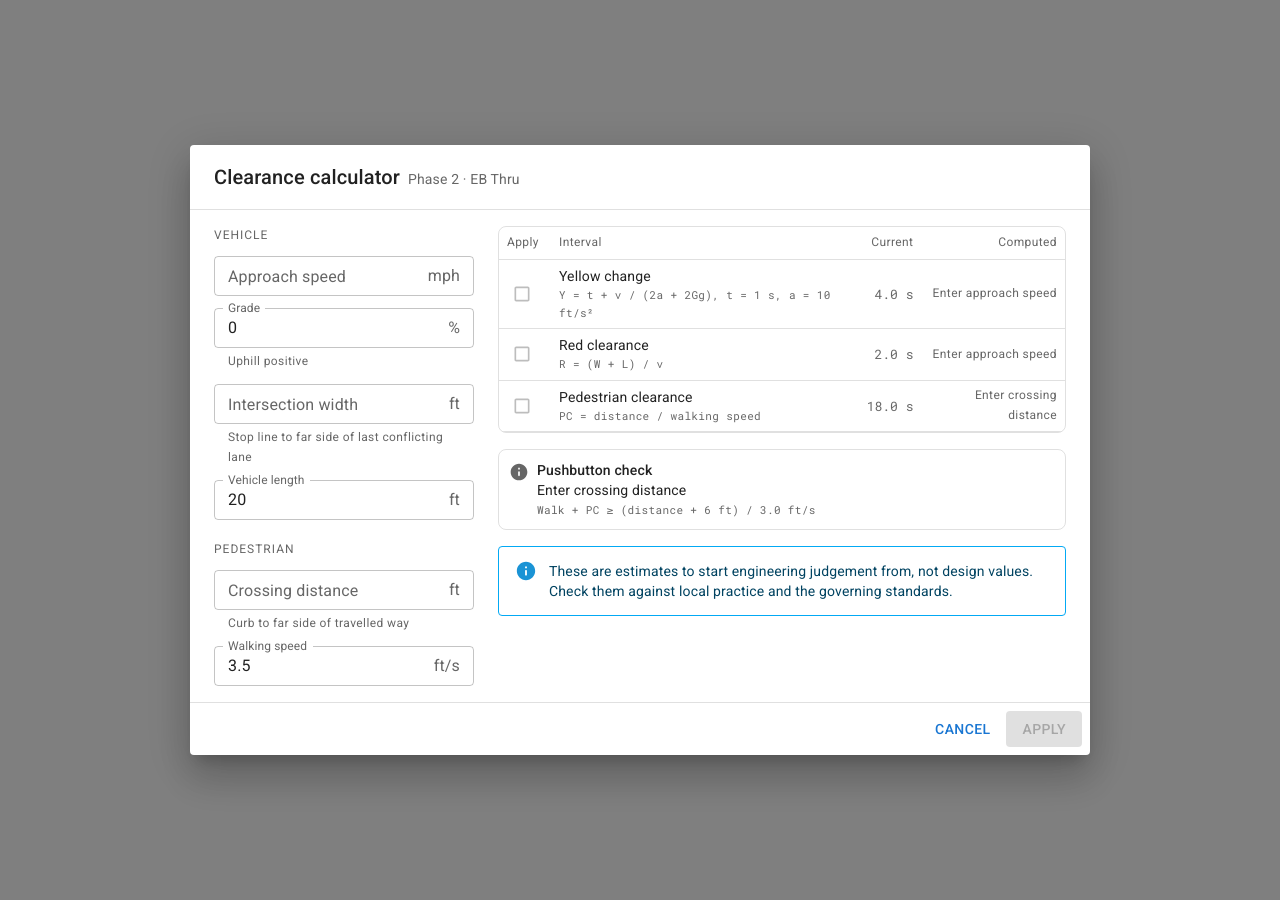
it: ClearanceDialog › recomputes live as inputs change, with defaults for vehicle length and walking speed
In the field labelled "Approach speed": (317, 276) [214,256,420,296], type "35"
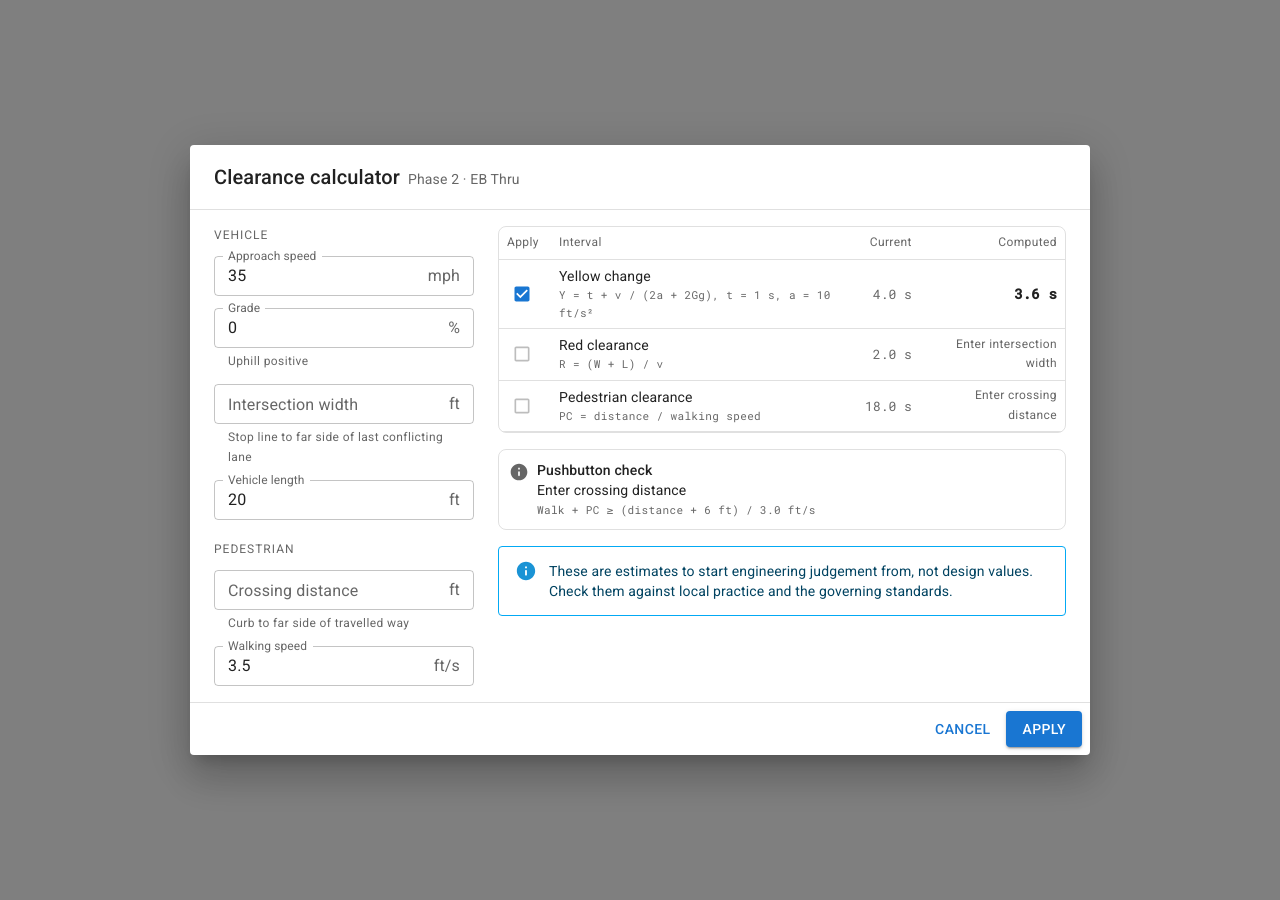
Expected: the text "3.6 s" is shown, [1014,284,1057,303]
Replace the text in the field labelled "Grade" with "-5": (327, 328) [214,308,440,348]
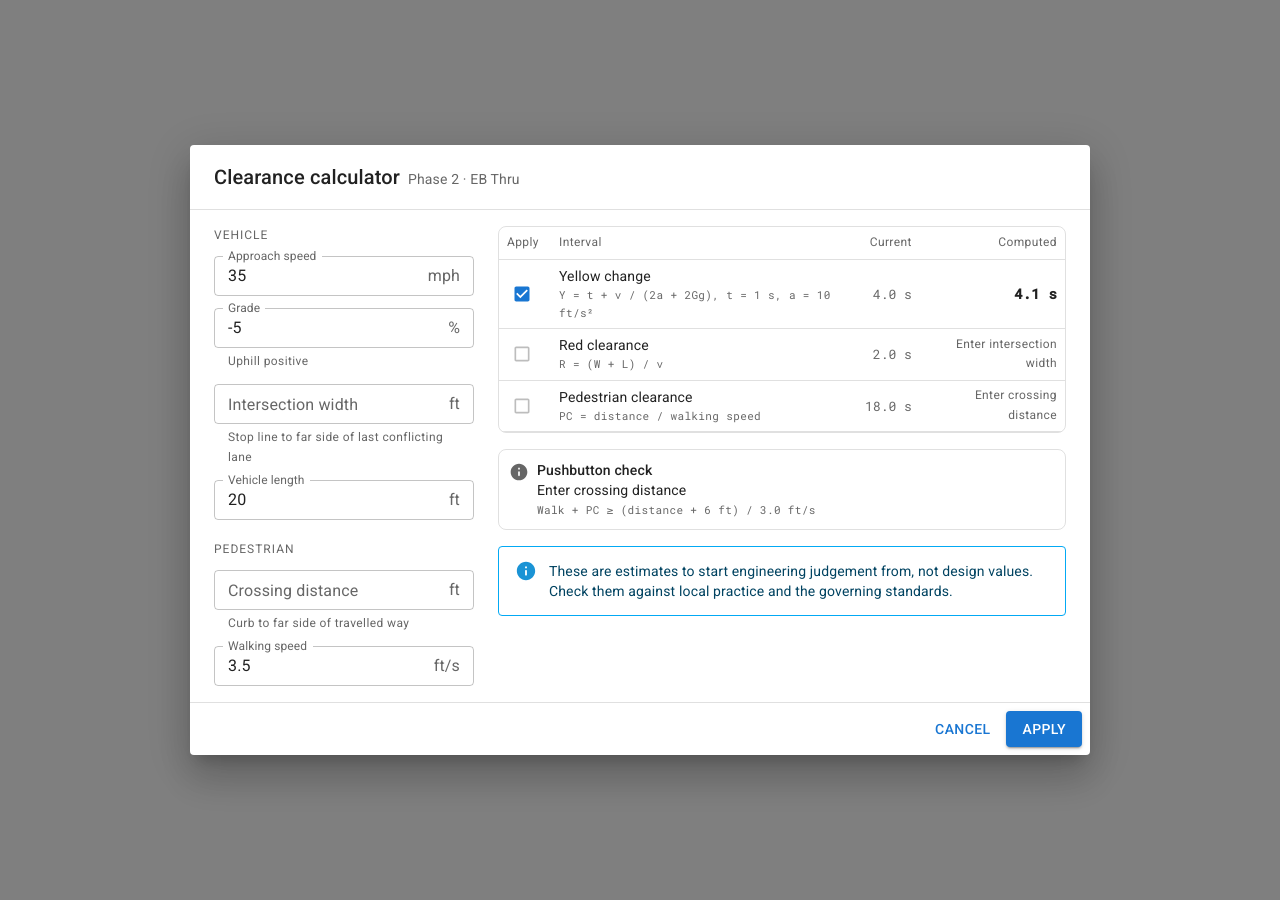
Expected: the text "4.1 s" is shown, [1014,284,1057,303]
In the field labelled "Intersection width": (327, 404) [214,384,441,424], type "60"
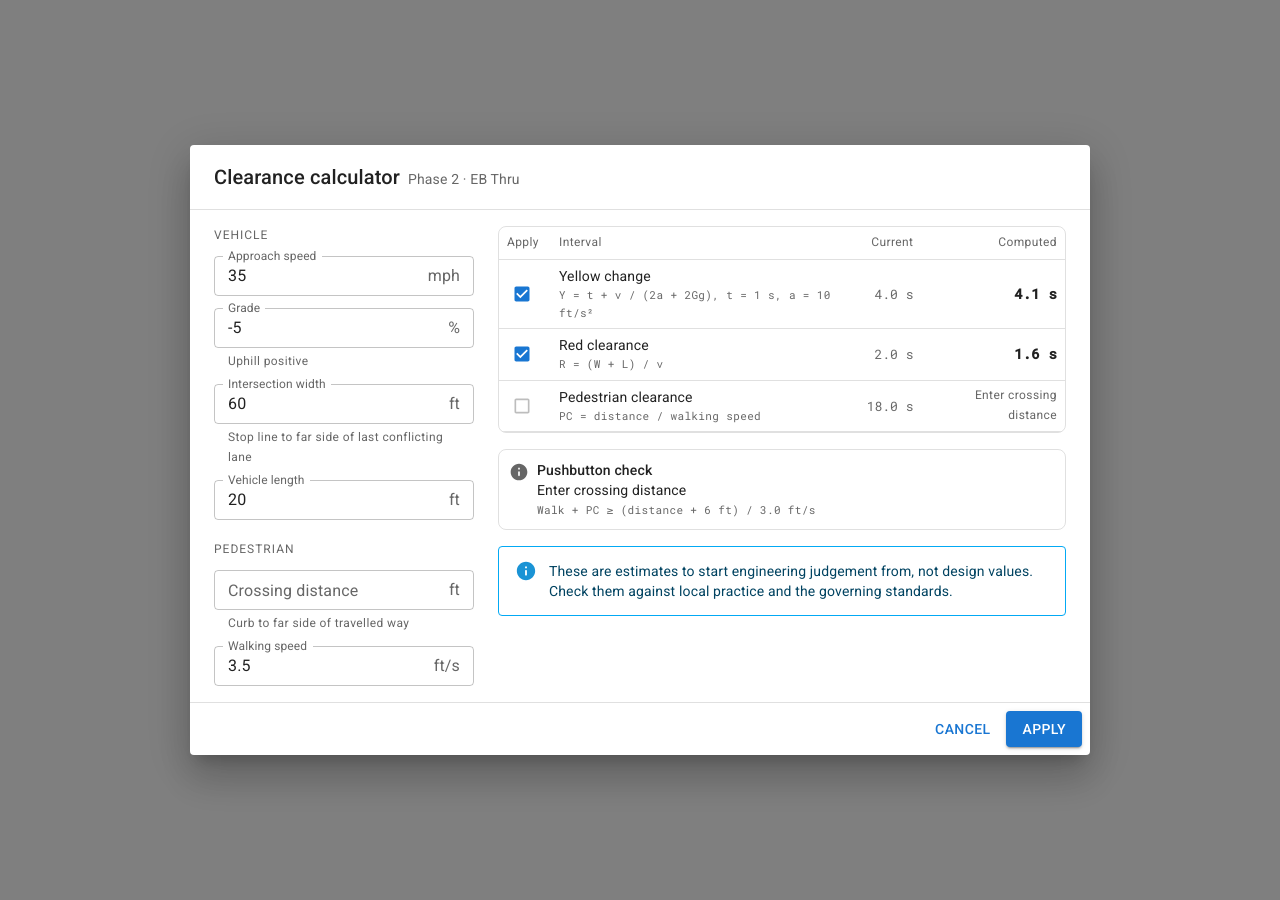
Expected: the text "1.6 s" is shown, [1014,344,1057,364]
In the field labelled "Crossing distance": (327, 590) [214,570,441,610], type "48"
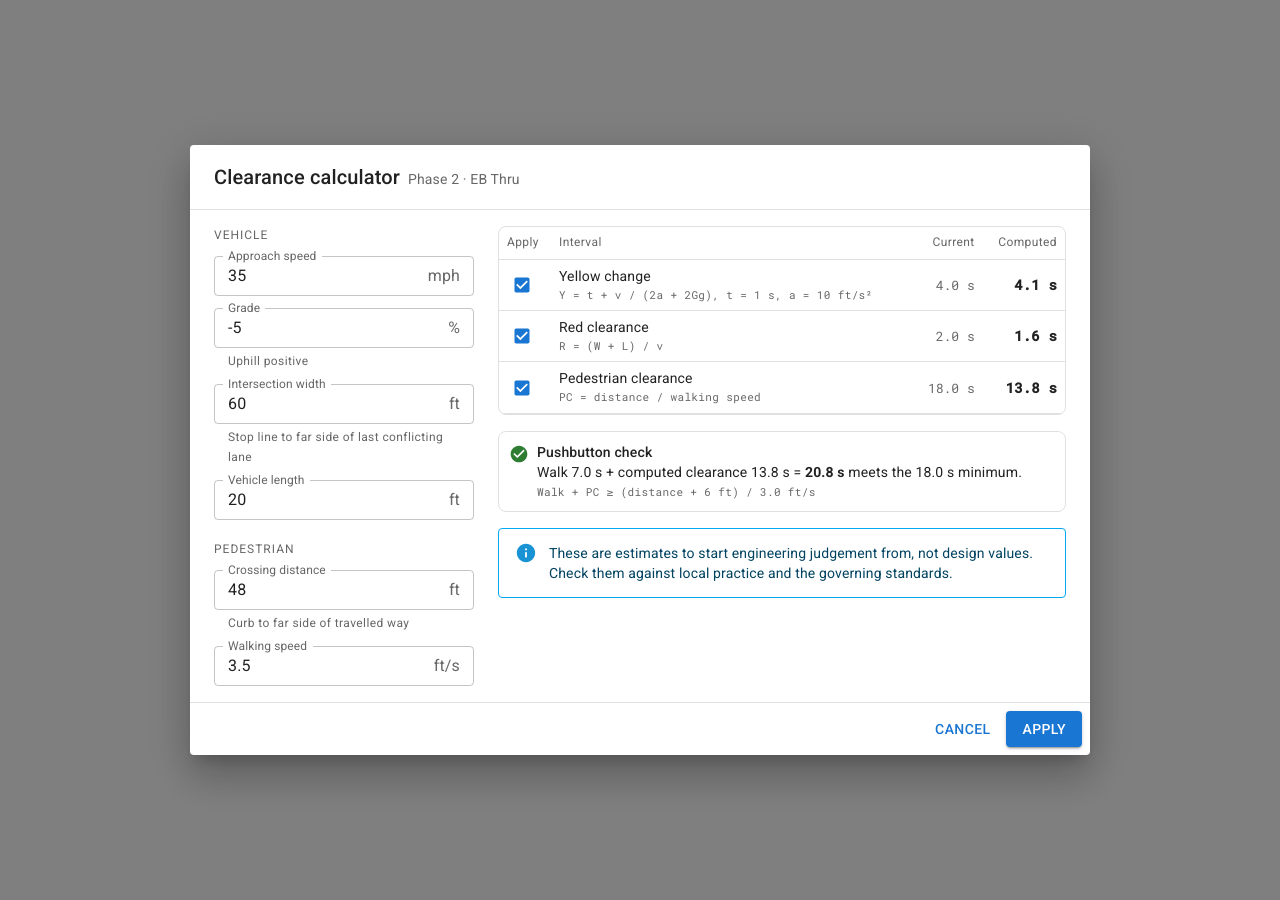
Expected: the text "13.8 s" is shown, [1006,378,1057,396]
